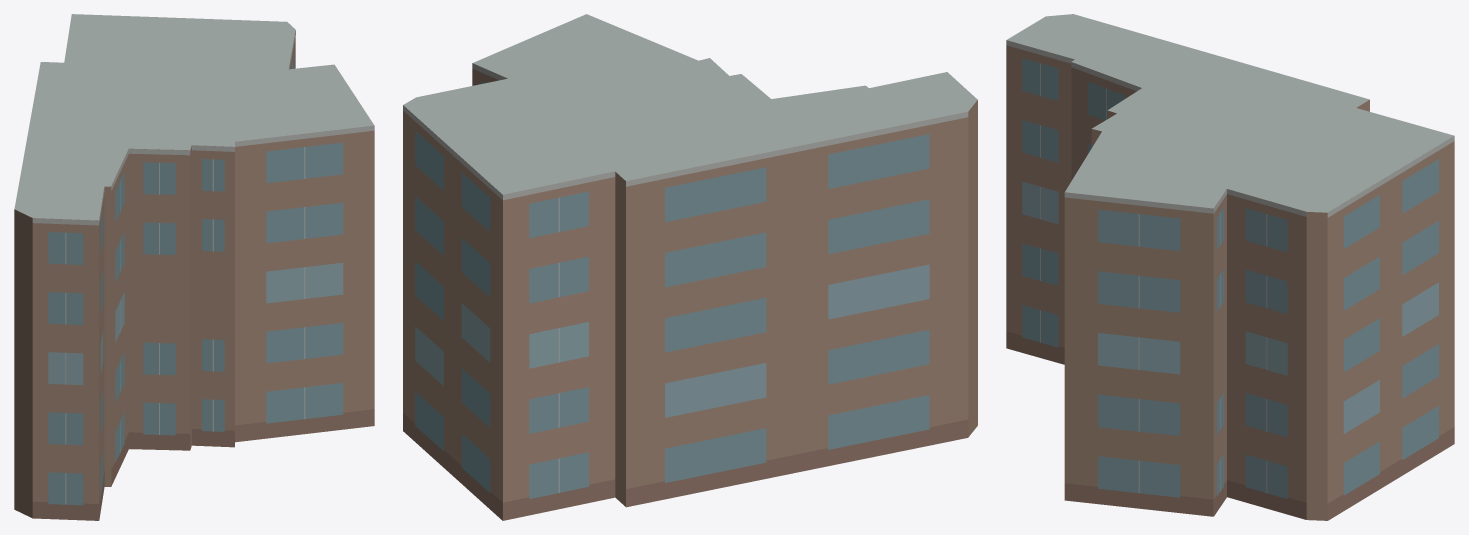
The model's file is survey-upis-32542564.glb.
3 renders of one model, left to right at view 1: azimuth 30°, elevation 25°; view 2: azimuth 150°, elevation 25°; view 3: azimuth 270°, elevation 25°, orthographic. The views are drawn at different scales.
Parts seen in each view (by area): view 1: survey-upis-32542564.tmp; view 2: survey-upis-32542564.tmp; view 3: survey-upis-32542564.tmp.
Part boxes in pixels (<box>): survey-upis-32542564.tmp: <box>14,14,374,520</box>; survey-upis-32542564.tmp: <box>403,14,977,520</box>; survey-upis-32542564.tmp: <box>1006,14,1454,520</box>.
Bounding box in the file's own units: 19.98 × 14.45 × 19.05.
